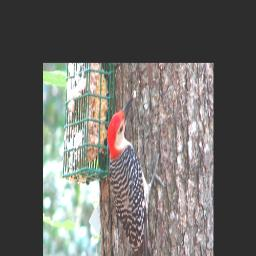Woodpecker: (107, 91, 167, 256)
